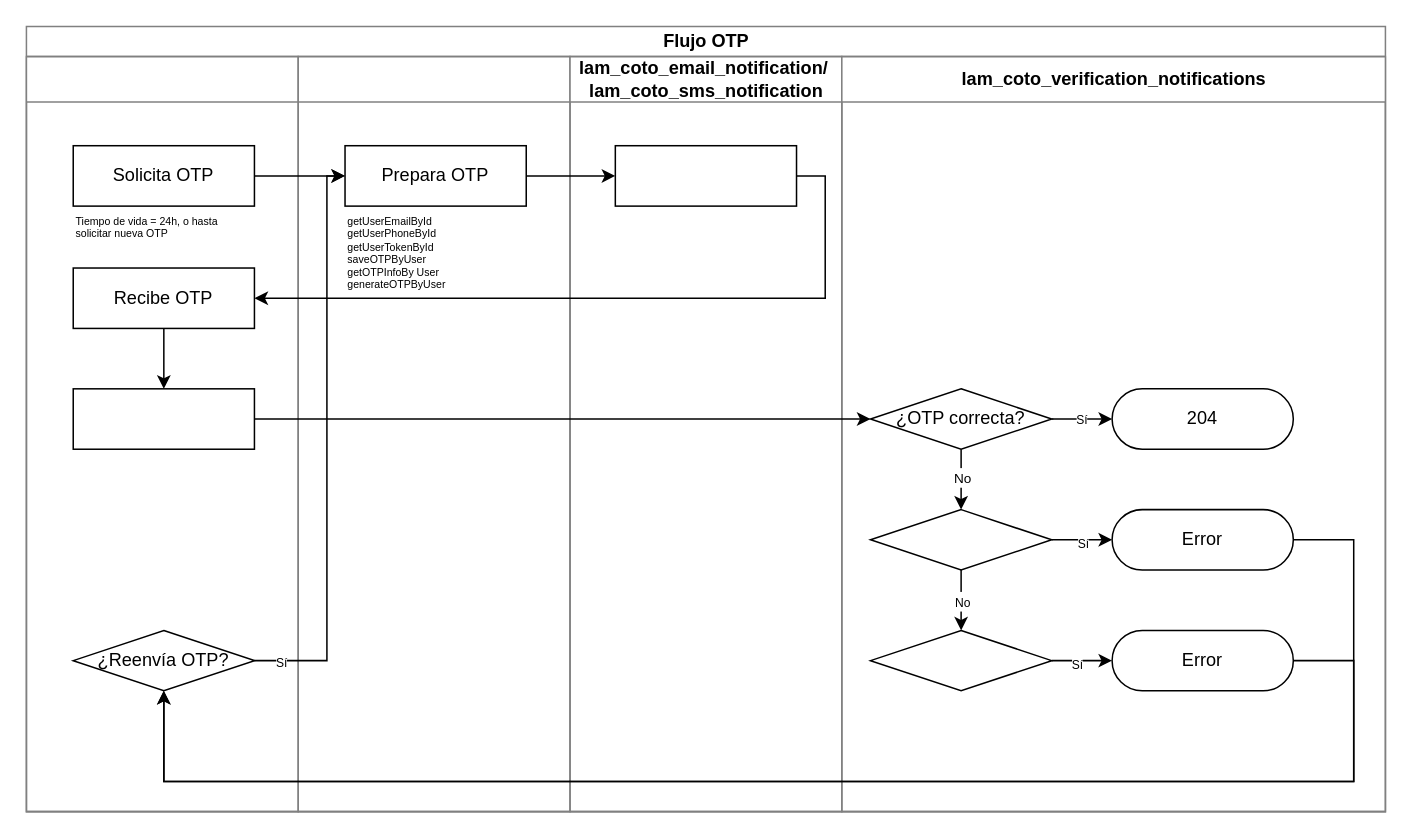
The diagram is 1412 pixels wide and 838 high, and some of its shapes have lost their labels. The box of each missing label's shape, as (x1, y1, x2, y2) in pixels:
Envía OTP: (614, 144, 797, 206)
Introduce OTP: (72, 387, 254, 449)
lam_coto_prepare_notifications: (297, 55, 570, 812)
User: (25, 55, 298, 812)
¿Expirada?: (869, 508, 1052, 570)
¿Inválida?: (869, 629, 1052, 691)
